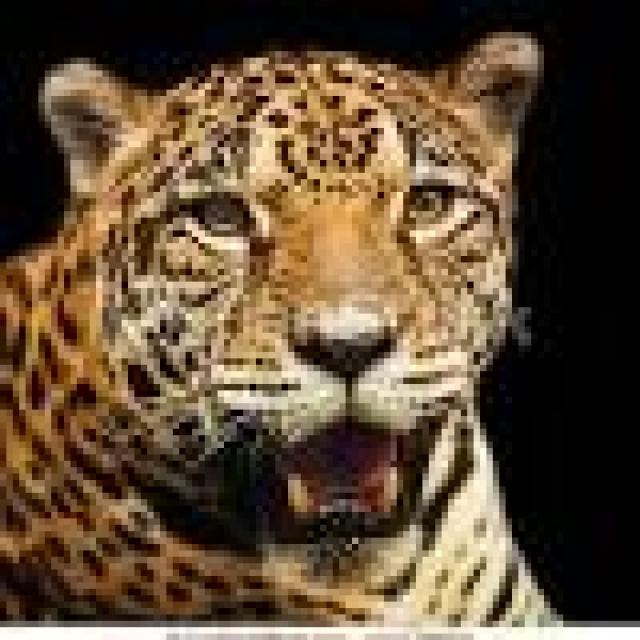Jaguar: (6, 39, 557, 634)
